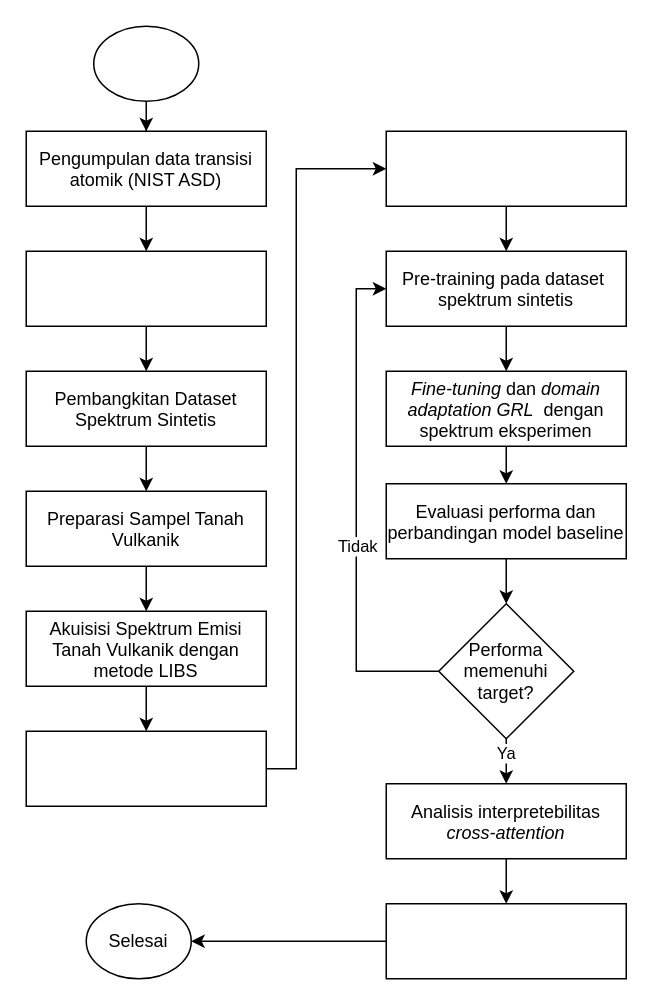
This 653x1005 diagram has some shape labels left out. The shapes that lost their labels are listed below. From the top down, each one's centre as x and y in pixels, then its label:
(x=145, y=63): Mulai
(x=505, y=168): Implementasi arsitektur CNN-Transformer
(x=145, y=288): Pemodelan forward Spektrum Emisi Saha-Boltzmann
(x=145, y=768): Penggunan data XRF sebagai Ground-Truth
(x=505, y=940): Penyusun Laporan, Tesis dan manuskrip artikel
